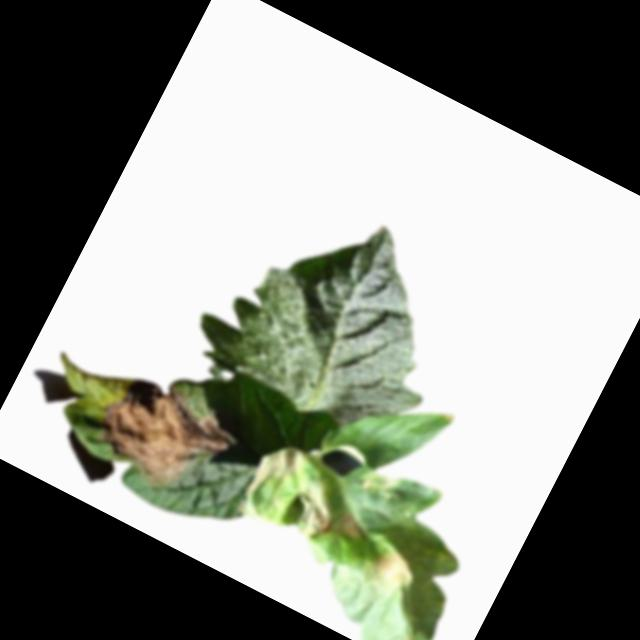Late_blight: (81, 359, 243, 507), (237, 432, 309, 516), (284, 471, 348, 541), (361, 537, 423, 598), (356, 462, 403, 504), (334, 508, 369, 542)
healthy: (182, 167, 486, 455)
